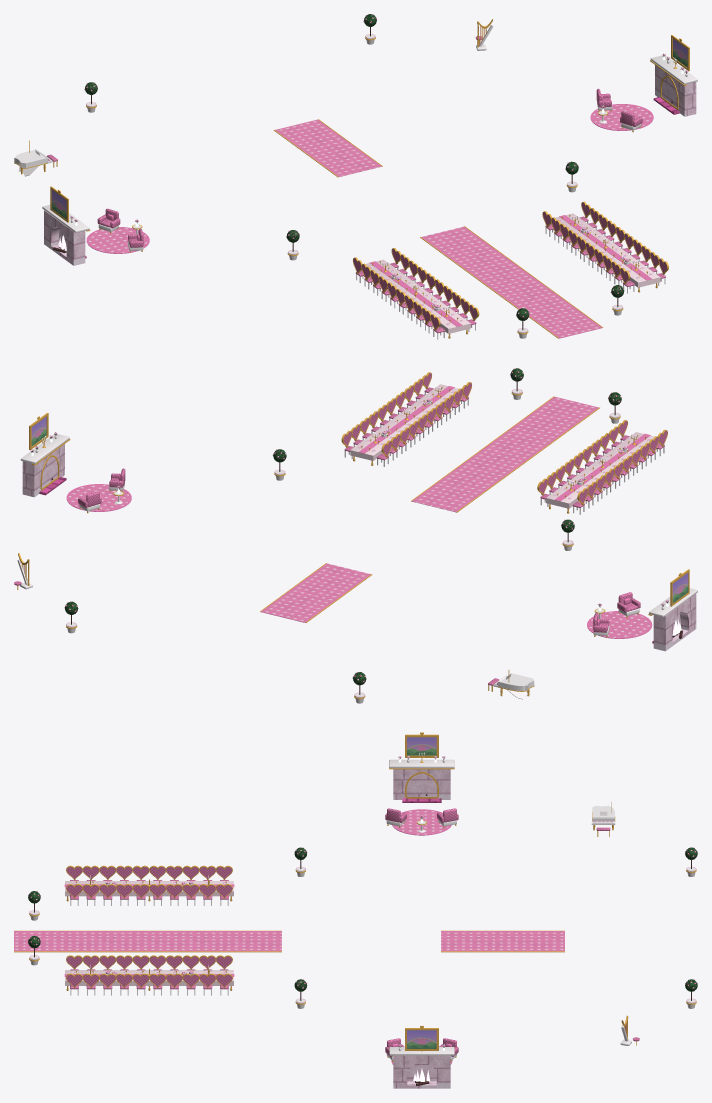
File: citadel_hall.glb
3 renders of one model, top to bottom at view 1: azimuth 30°, elevation 25°; view 2: azimuth 150°, elevation 25°; view 3: azimuth 270°, elevation 25°, orthographic. The views are drawn at different scales.
Visible parts, largest first — view 1: hall_carpet, hall_tufted, hall_gold, hall_white_wood, hall_satin_blush, hall_trim, hall_satin_rose, hall_hedge, hall_satin_white, hall_satin_pink; view 2: hall_carpet, hall_tufted, hall_gold, hall_white_wood, hall_satin_blush, hall_trim, hall_satin_rose, hall_hedge, hall_satin_pink, hall_satin_white; view 3: hall_carpet, hall_tufted, hall_gold, hall_trim, hall_white_wood, hall_satin_blush, hall_hedge, hall_satin_rose, hall_painting_0, hall_painting_1.
Boxes of the visible parts, x1=… form: hall_carpet: x1=88, y1=104, x2=651, y2=338; hall_tufted: x1=46, y1=36, x2=666, y2=333; hall_gold: x1=14, y1=19, x2=689, y2=338; hall_white_wood: x1=14, y1=25, x2=697, y2=339; hall_satin_blush: x1=70, y1=55, x2=687, y2=333; hall_trim: x1=44, y1=65, x2=696, y2=265; hall_satin_rose: x1=71, y1=15, x2=687, y2=326; hall_hedge: x1=71, y1=14, x2=686, y2=320; hall_satin_white: x1=35, y1=53, x2=687, y2=324; hall_satin_pink: x1=70, y1=14, x2=688, y2=332; hall_carpet: x1=68, y1=396, x2=650, y2=637; hall_tufted: x1=14, y1=373, x2=667, y2=685; hall_gold: x1=17, y1=372, x2=689, y2=699; hall_white_wood: x1=17, y1=387, x2=697, y2=703; hall_satin_blush: x1=33, y1=384, x2=668, y2=606; hall_trim: x1=22, y1=444, x2=696, y2=651; hall_satin_rose: x1=20, y1=371, x2=668, y2=682; hall_hedge: x1=31, y1=368, x2=667, y2=685; hall_satin_pink: x1=31, y1=368, x2=668, y2=696; hall_satin_white: x1=32, y1=387, x2=667, y2=685; hall_carpet: x1=14, y1=810, x2=564, y2=951; hall_tufted: x1=66, y1=808, x2=639, y2=1056; hall_gold: x1=14, y1=732, x2=696, y2=1061; hall_trim: x1=393, y1=769, x2=450, y2=1088; hall_white_wood: x1=29, y1=753, x2=696, y2=1060; hall_satin_blush: x1=65, y1=757, x2=444, y2=1046; hall_hedge: x1=28, y1=758, x2=697, y2=1047; hall_satin_rose: x1=30, y1=757, x2=696, y2=1064; hall_painting_0: x1=407, y1=737, x2=436, y2=755; hall_painting_1: x1=407, y1=1030, x2=436, y2=1048.
Size of the model in its own units: 46.46 by 4.62 by 45.18.
18 materials, 8 textured.
